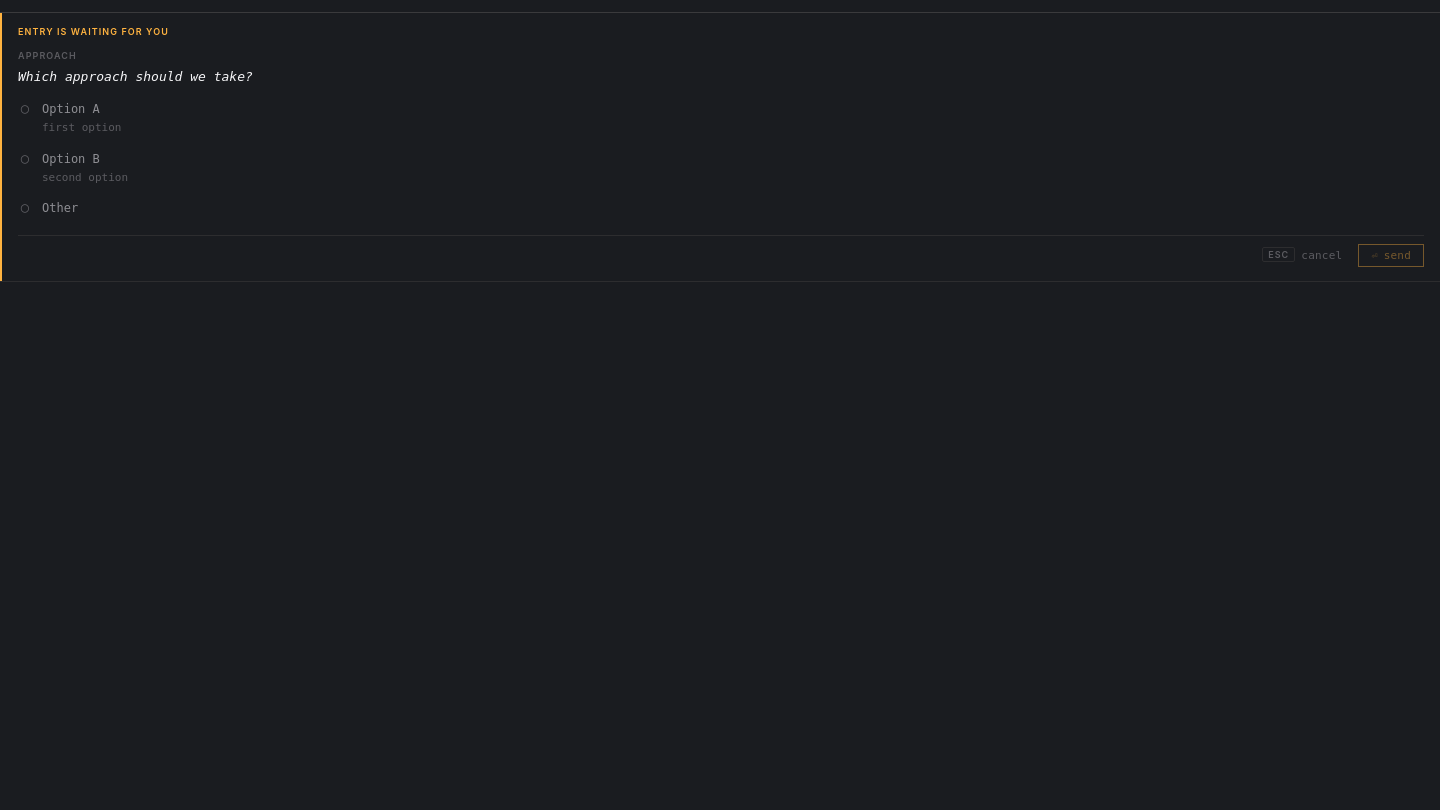
it: AskUserQuestionCard — render (aq-2, aq-3, aq-4, aq-5) › aq-4: 'Other' reveals textarea on selection; submit blocked when empty
Click the radio button labelled "○ Other" at (49, 207), box x1=21 y1=199 x2=78 y2=215
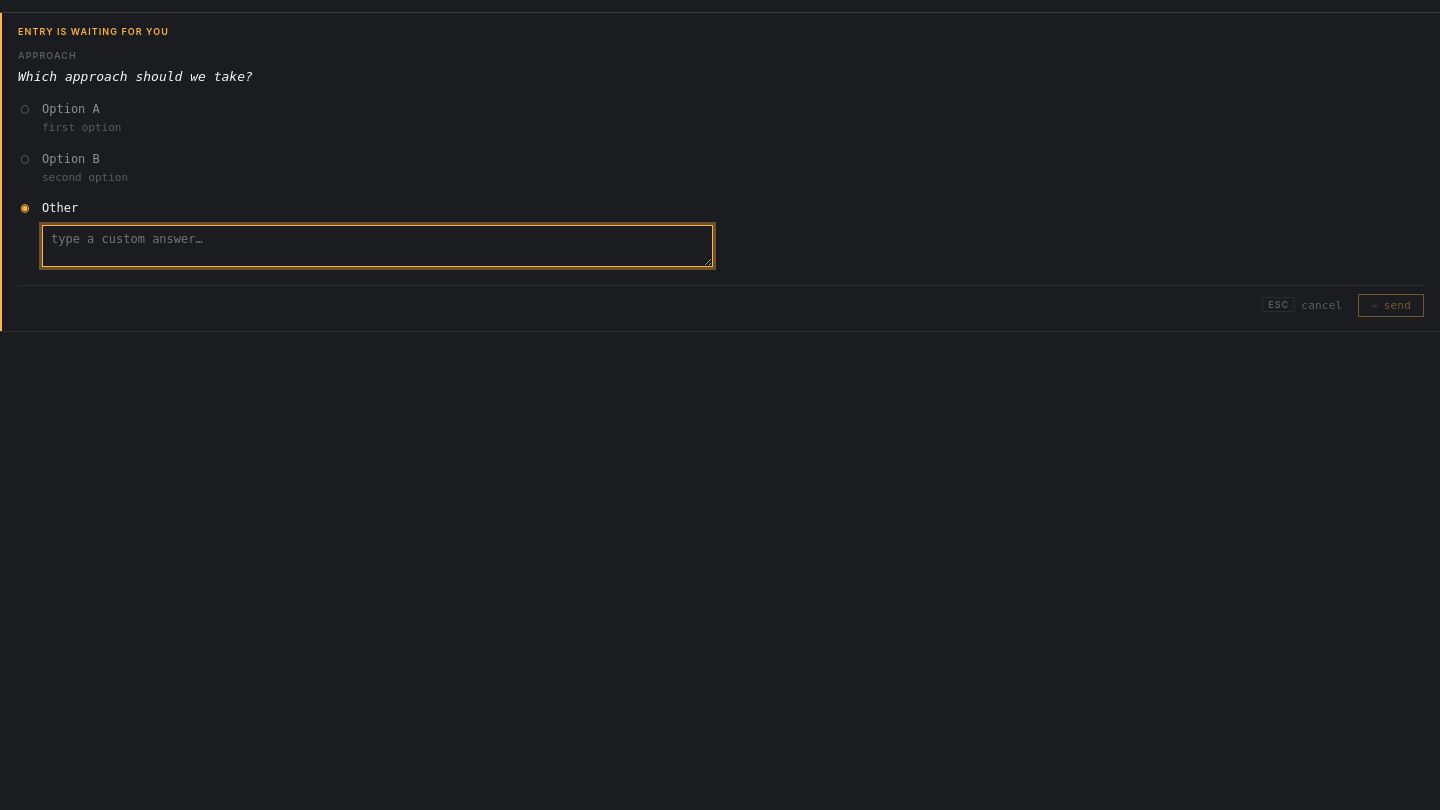
Expected: the button "⏎send" is disabled, x1=1358 y1=294 x2=1424 y2=317
Result: the text box is shown
Type "my custom answer" into the text box at (378, 246), box x1=42 y1=225 x2=713 y2=267
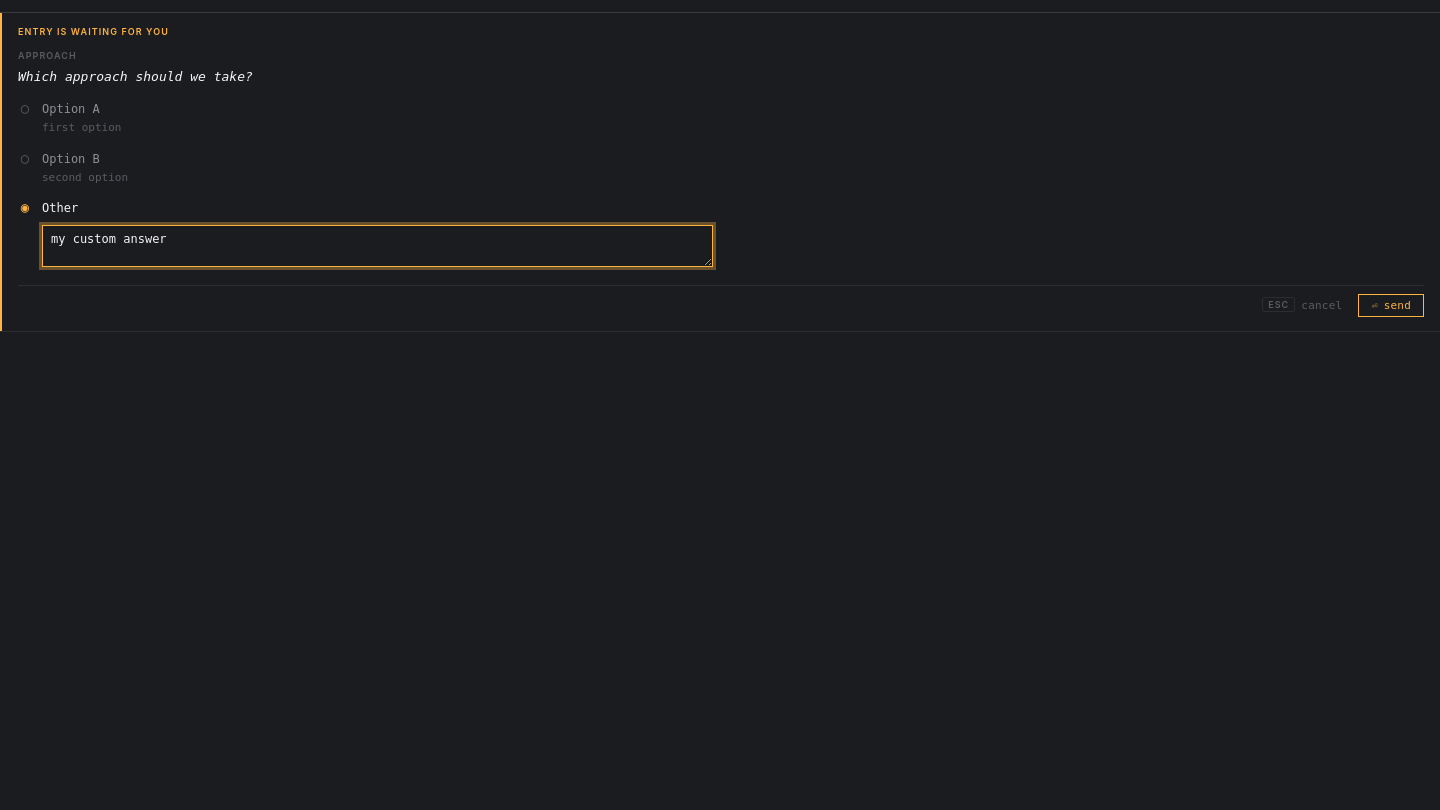
Result: the button "⏎send" is enabled at x1=1358 y1=294 x2=1424 y2=317
